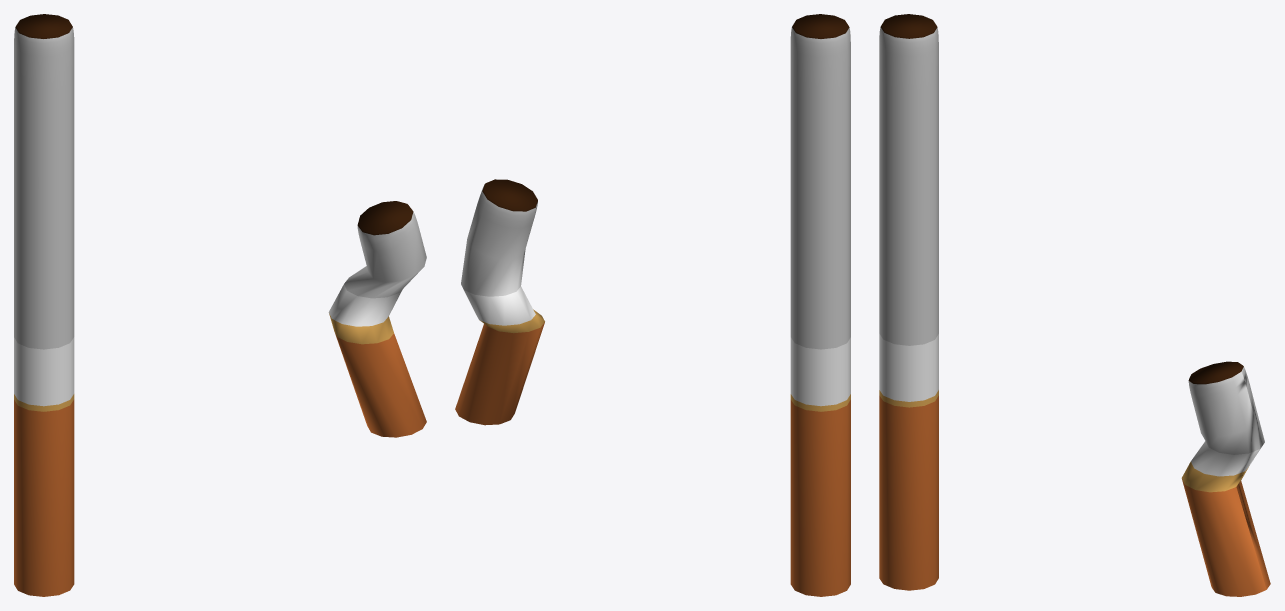
3 renders of one model, left to right at view 1: azimuth 30°, elevation 25°; view 2: azimuth 150°, elevation 25°; view 3: azimuth 330°, elevation 25°, orthographic.
Parts seen in each view (by area): view 1: 실린더, 실린더.001; view 2: 실린더, 실린더.001; view 3: 실린더, 실린더.001.
Boxes of the visible parts, x1,y1,x2,y2 form: 실린더: (14, 14, 74, 596); 실린더.001: (328, 201, 426, 437); 실린더: (790, 14, 850, 596); 실린더.001: (455, 179, 544, 425); 실린더: (879, 14, 938, 590); 실린더.001: (1181, 361, 1270, 596).
Bounding box in the file's own units: 1165 × 1568 × 228.
